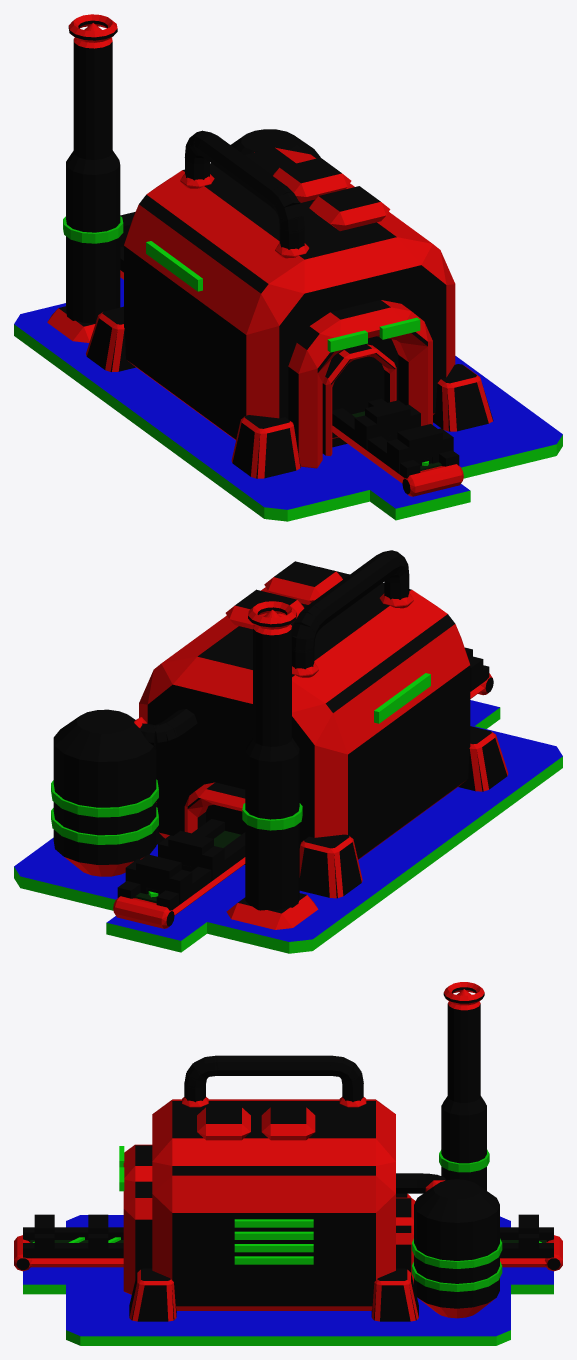
File: SM_Holo_Refinery_T1_Mini.fbx
3 views of the same model, one above another, from view 1: azimuth 30°, elevation 25°; view 2: azimuth 150°, elevation 25°; view 3: azimuth 270°, elevation 25° (orthographic). The views are drawn at different scales.
Visible parts, largest first — view 1: SM_Holo_Refinery_T1_Mini; view 2: SM_Holo_Refinery_T1_Mini; view 3: SM_Holo_Refinery_T1_Mini.
Boxes of the visible parts, bbox=[...] form: SM_Holo_Refinery_T1_Mini: bbox=[14, 14, 562, 521]; SM_Holo_Refinery_T1_Mini: bbox=[14, 550, 562, 953]; SM_Holo_Refinery_T1_Mini: bbox=[14, 982, 562, 1345].
Size of the model in its own units: 8 by 8.02 by 15.31.
